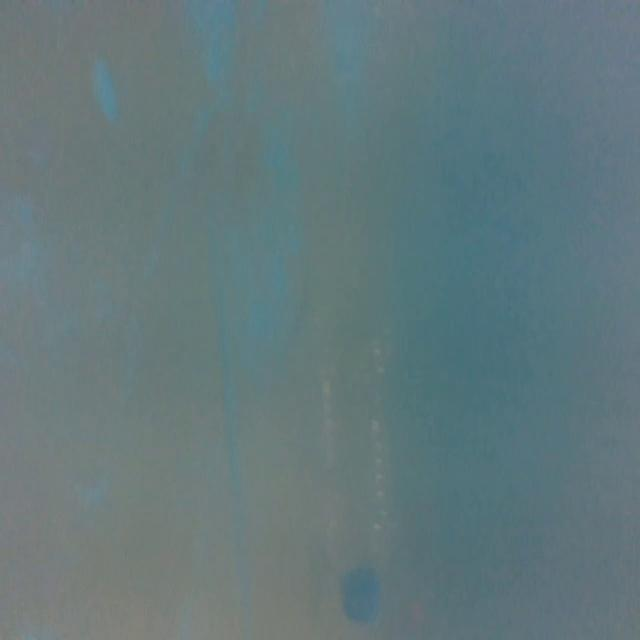plastic bottle: (308, 340, 401, 628)
